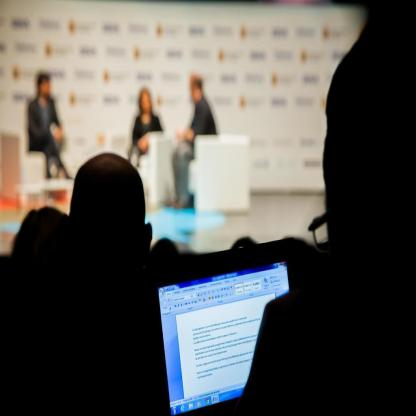board: (145, 254, 303, 416)
